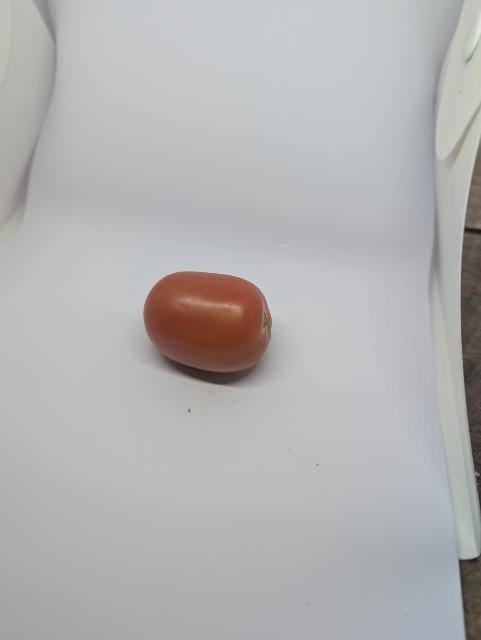red: (131, 264, 300, 386)
